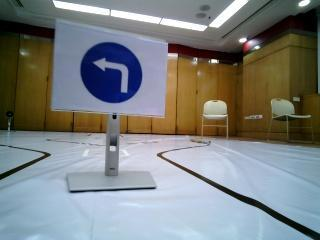left: (69, 34, 154, 116)
